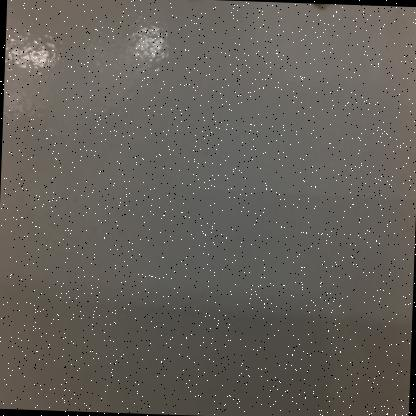Nocrack: (5, 0, 415, 412)
